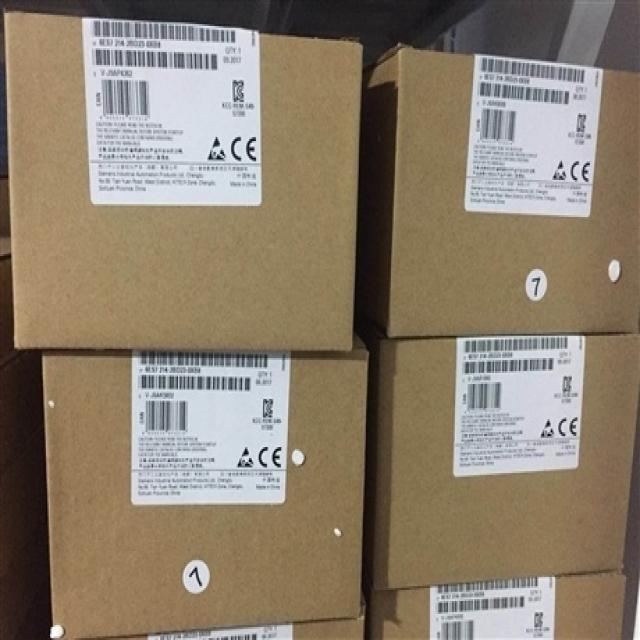box: (6, 12, 364, 353), (41, 329, 369, 638), (352, 47, 639, 338), (352, 314, 639, 589), (366, 572, 625, 638), (97, 618, 365, 638)
